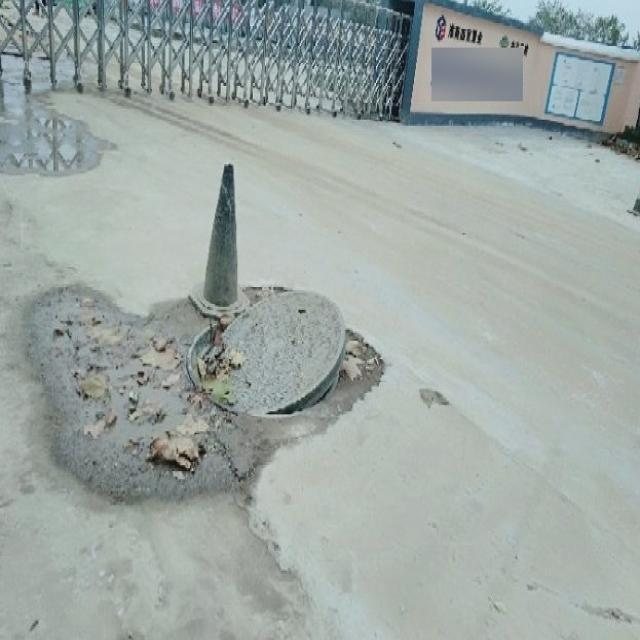Faulty: (185, 290, 346, 413)
